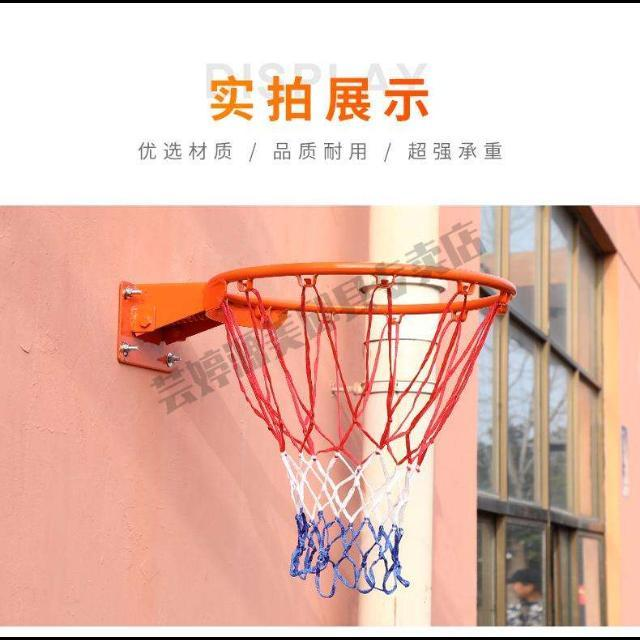rim: (208, 260, 514, 596)
